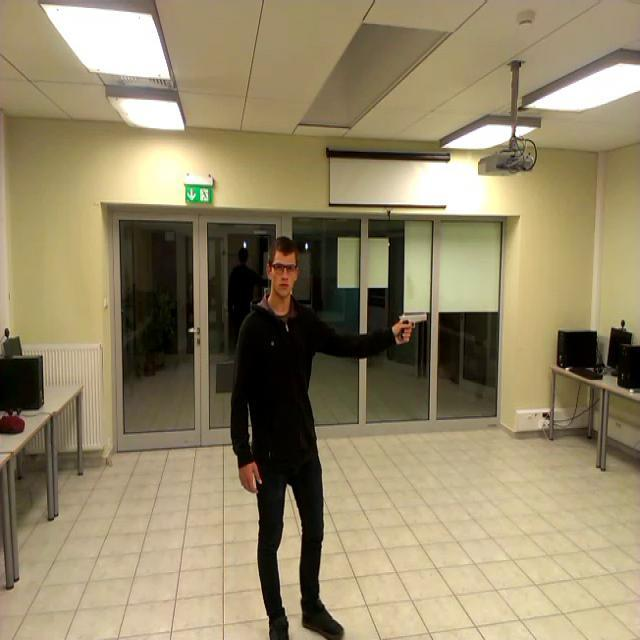Gun: (400, 312, 428, 340)
